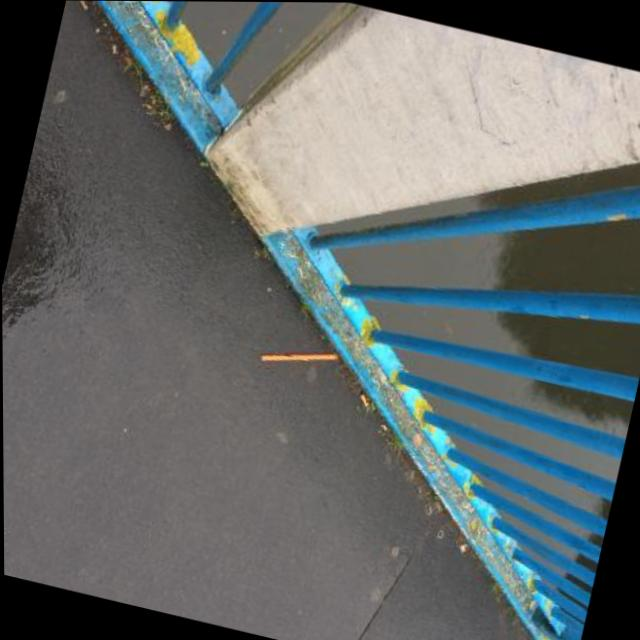plastic: (260, 334, 338, 376)
